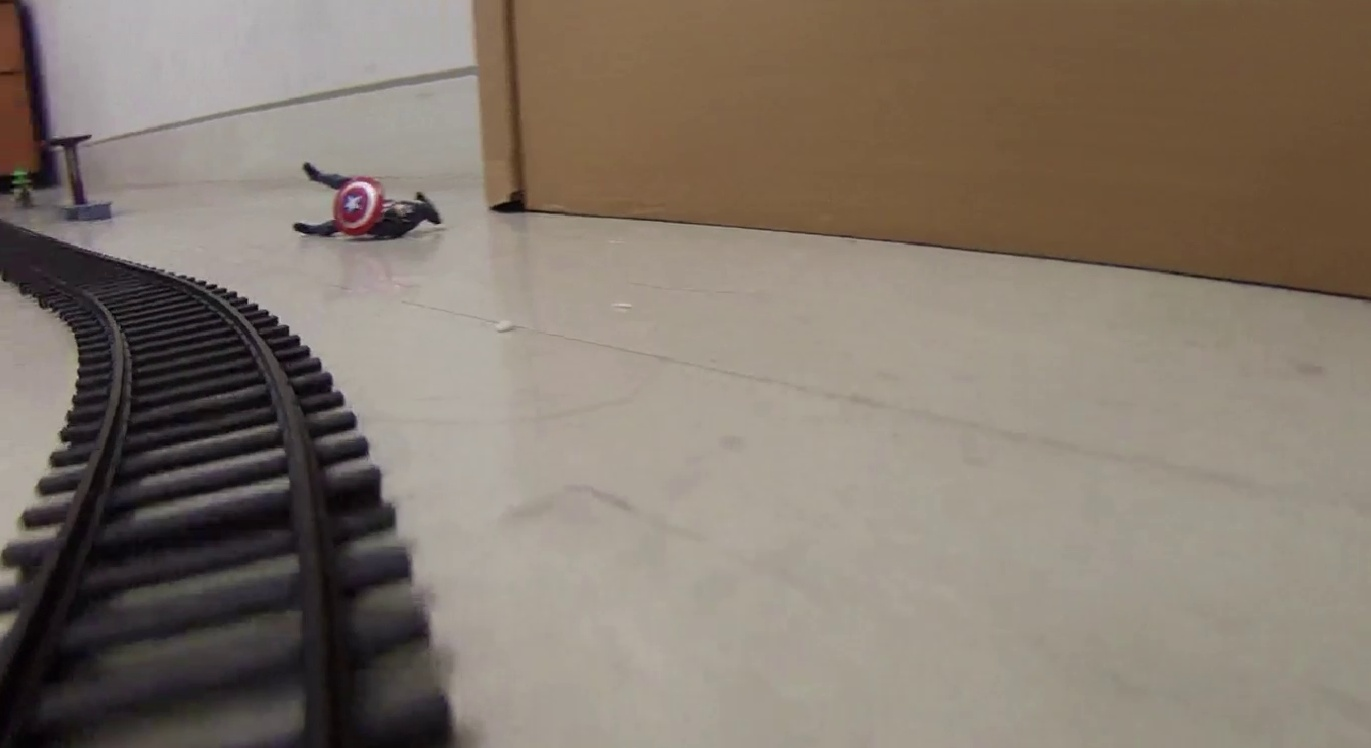people: (290, 168, 440, 237)
